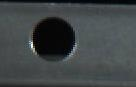holes: (28, 15, 79, 61)
